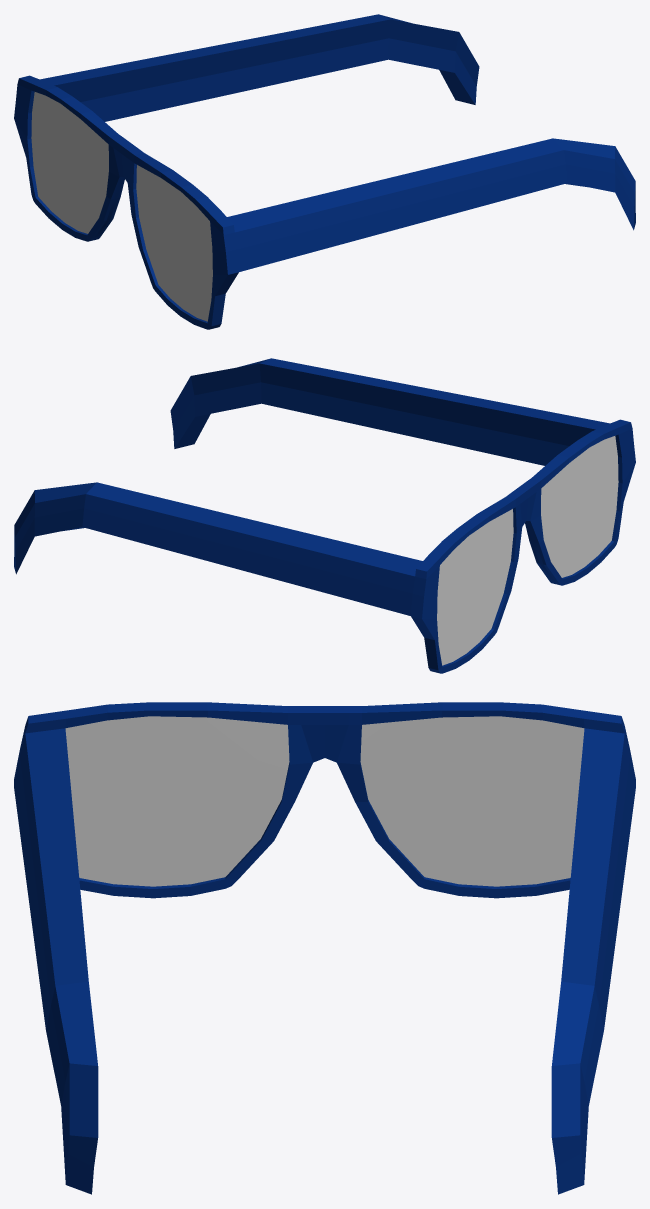
The model's file is Lunettes.fbx.
3 views of the same model, one above another, from view 1: azimuth 30°, elevation 25°; view 2: azimuth 150°, elevation 25°; view 3: azimuth 270°, elevation 25° (orthographic). The views are drawn at different scales.
Visible parts, largest first — view 1: Plane001; view 2: Plane001; view 3: Plane001.
Boxes of the visible parts, box(x1,y1,x2,y2) form: Plane001: box(14, 14, 635, 329); Plane001: box(14, 358, 635, 673); Plane001: box(14, 702, 635, 1194).
Bounding box in the file's own units: 25.74 × 7.31 × 21.81.
